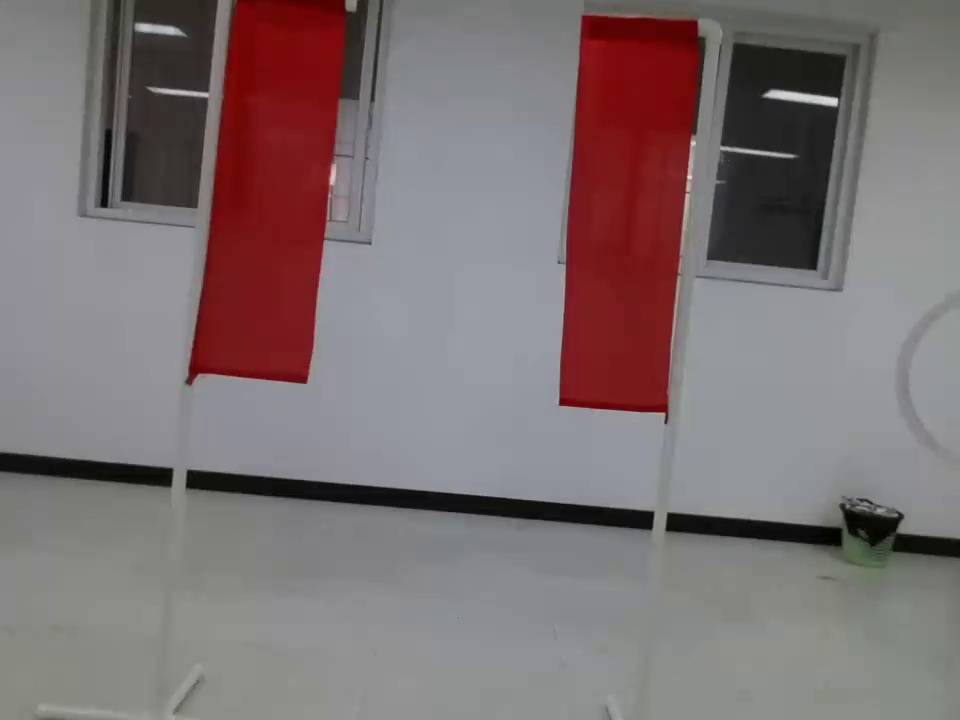qi: (553, 4, 729, 442), (173, 2, 343, 415)
